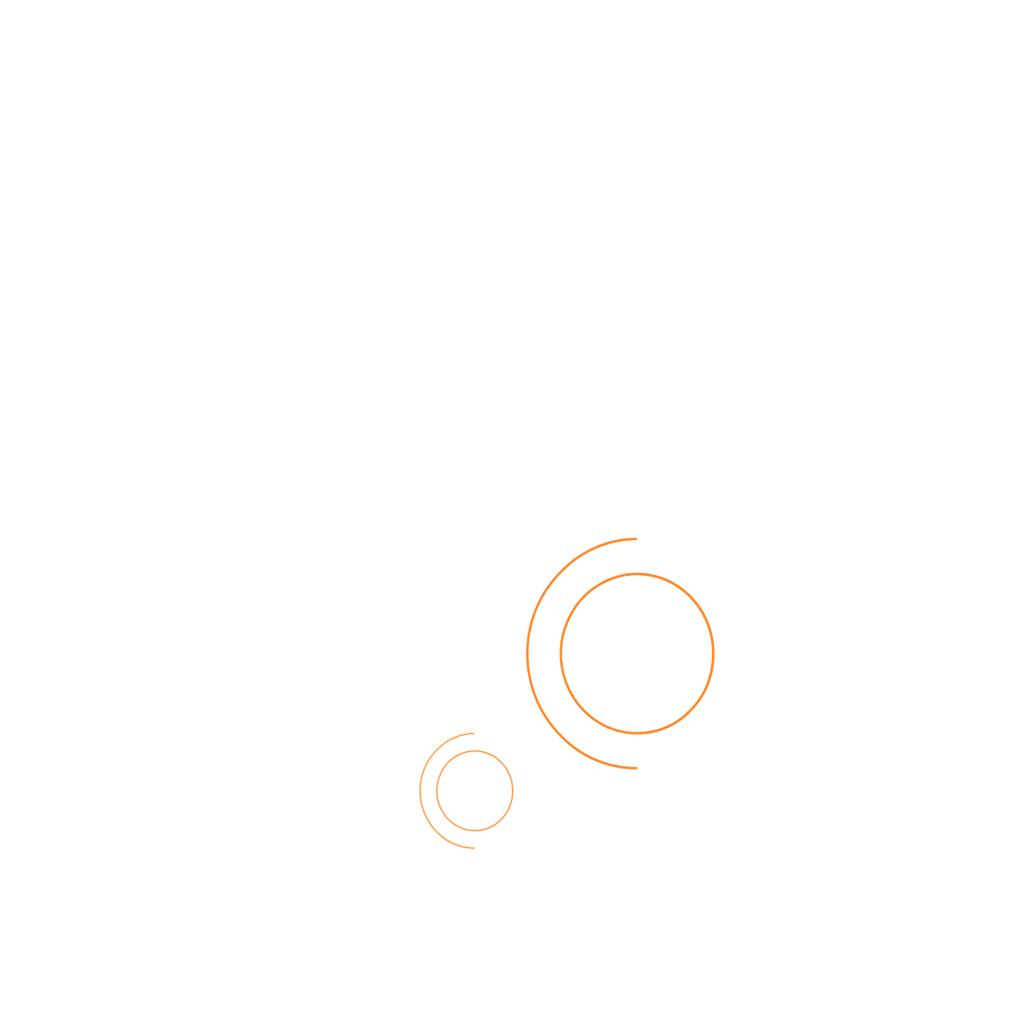Scheinwerfer_fuer_Alarmbeleuchtung: (515, 528, 740, 792), (414, 728, 526, 860)
